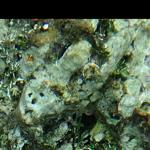dead: (1, 18, 146, 147)
